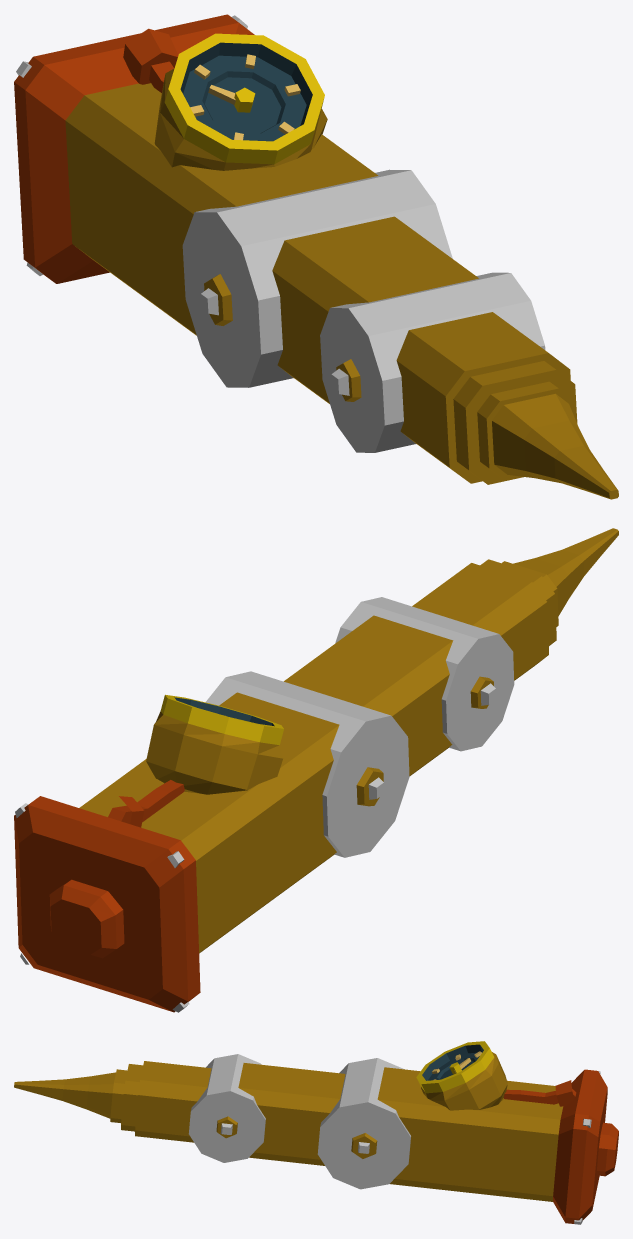
The model's file is gauge-index-finger-10b1a0.glb.
3 renders of one model, top to bottom at view 1: azimuth 30°, elevation 25°; view 2: azimuth 150°, elevation 25°; view 3: azimuth 270°, elevation 25°, orthographic. The views are drawn at different scales.
Visible parts, largest first — view 1: index-finger-phalanx-proximal, index-finger-phalanx-intermediate, index-finger-phalanx-distal; view 2: index-finger-phalanx-proximal, index-finger-phalanx-intermediate, index-finger-phalanx-distal; view 3: index-finger-phalanx-proximal, index-finger-phalanx-intermediate, index-finger-phalanx-distal.
Boxes of the visible parts, <box> form: index-finger-phalanx-proximal: <box>14,14,452,387</box>; index-finger-phalanx-intermediate: <box>272,216,545,452</box>; index-finger-phalanx-distal: <box>396,312,618,499</box>; index-finger-phalanx-proximal: <box>14,671,409,1012</box>; index-finger-phalanx-intermediate: <box>284,597,514,776</box>; index-finger-phalanx-distal: <box>412,528,618,680</box>; index-finger-phalanx-proximal: <box>317,1041,618,1224</box>; index-finger-phalanx-intermediate: <box>188,1054,345,1165</box>; index-finger-phalanx-distal: <box>14,1061,211,1142</box>.
Bounding box in the file's own units: 0.0269 × 0.0291 × 0.1059.
